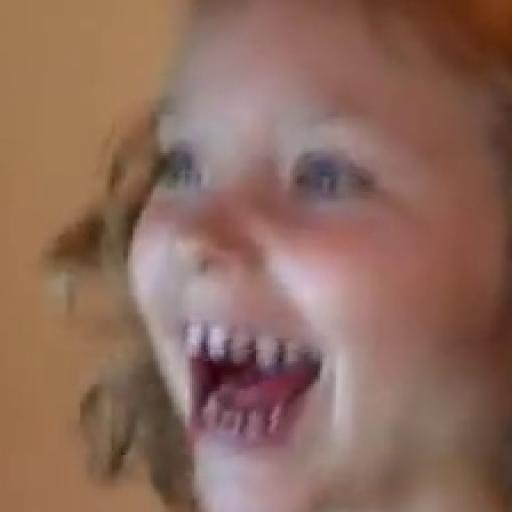Autism: (109, 22, 512, 512)
